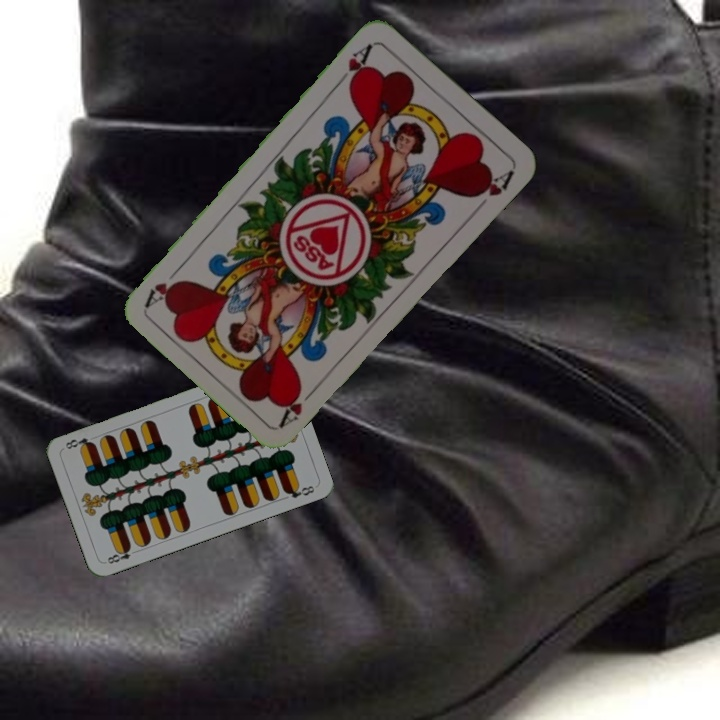E8: (101, 542, 141, 566)
HA: (275, 380, 322, 429), (333, 39, 376, 91)
